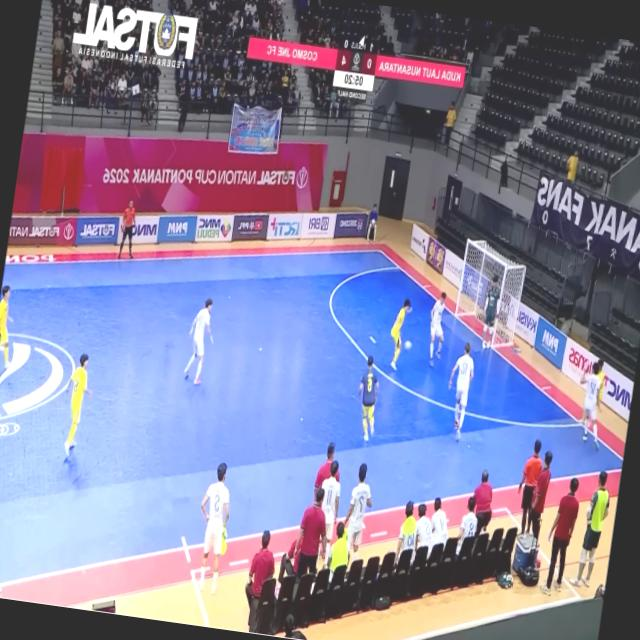keeper: (359, 356, 379, 441), (483, 275, 500, 347)
players: (185, 298, 213, 384), (430, 292, 446, 366), (455, 355, 473, 392), (404, 340, 412, 350)
referee: (119, 199, 136, 259)
